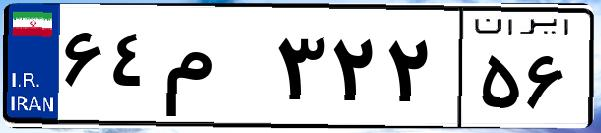2: (385, 28, 445, 110), (330, 28, 385, 110)
3: (270, 28, 330, 110)
4: (110, 28, 158, 98)
5: (475, 38, 525, 113)
6: (57, 26, 110, 100), (525, 38, 570, 115)
م: (158, 20, 270, 120)
